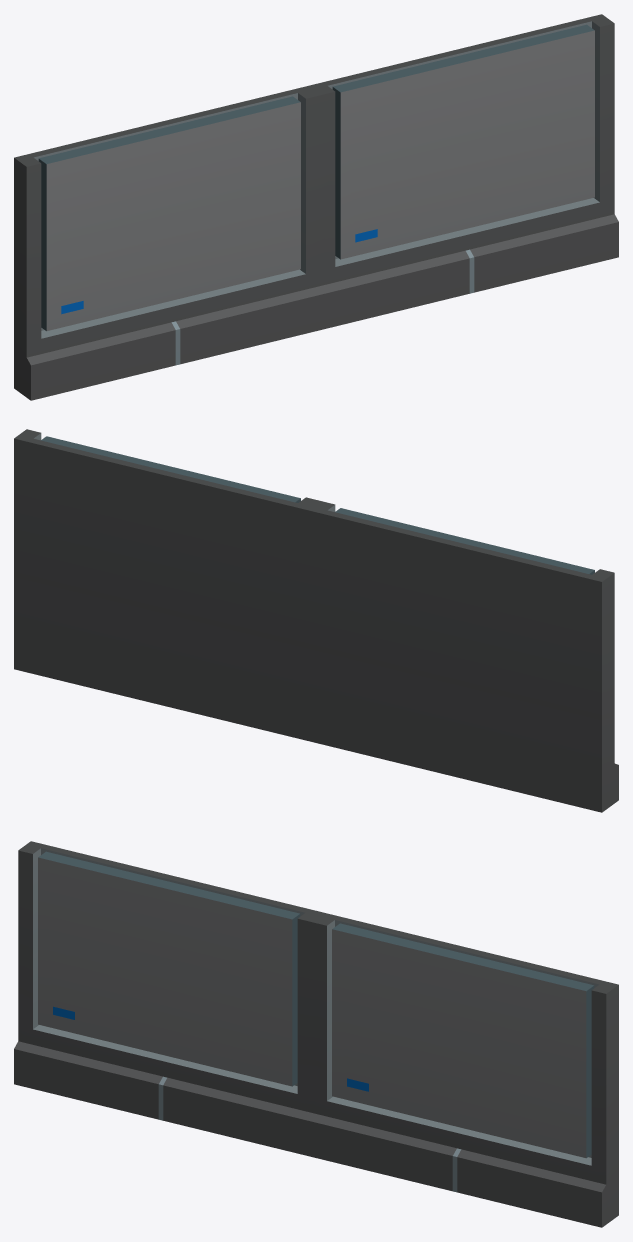
Rendered from Wall_type_B_030.fbx.
The picture shows the model from 3 angles, top to bottom: view 1: azimuth 30°, elevation 25°; view 2: azimuth 150°, elevation 25°; view 3: azimuth 330°, elevation 25°; orthographic projection.
Visible parts, largest first — view 1: Wall_type_B_030; view 2: Wall_type_B_030; view 3: Wall_type_B_030.
Boxes of the visible parts, x1=… form: Wall_type_B_030: x1=14, y1=14, x2=618, y2=400; Wall_type_B_030: x1=14, y1=429, x2=618, y2=812; Wall_type_B_030: x1=14, y1=841, x2=618, y2=1227.
Bounding box in the file's own units: 400 × 20 × 150.
